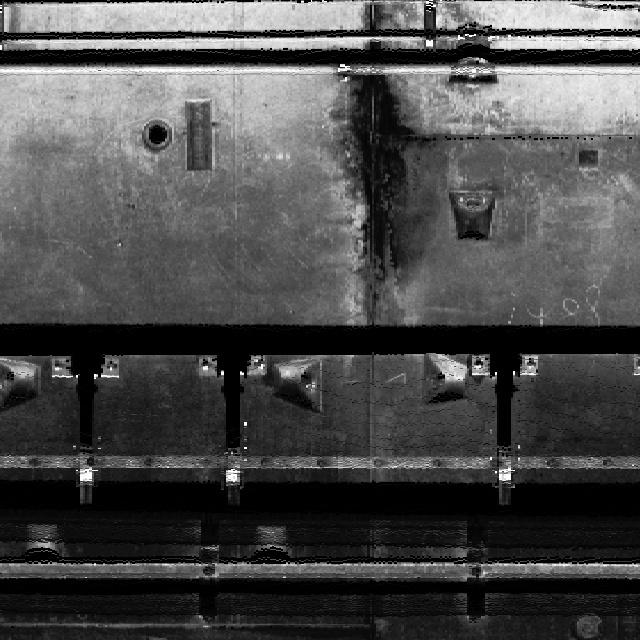leakage: (325, 4, 434, 327)
